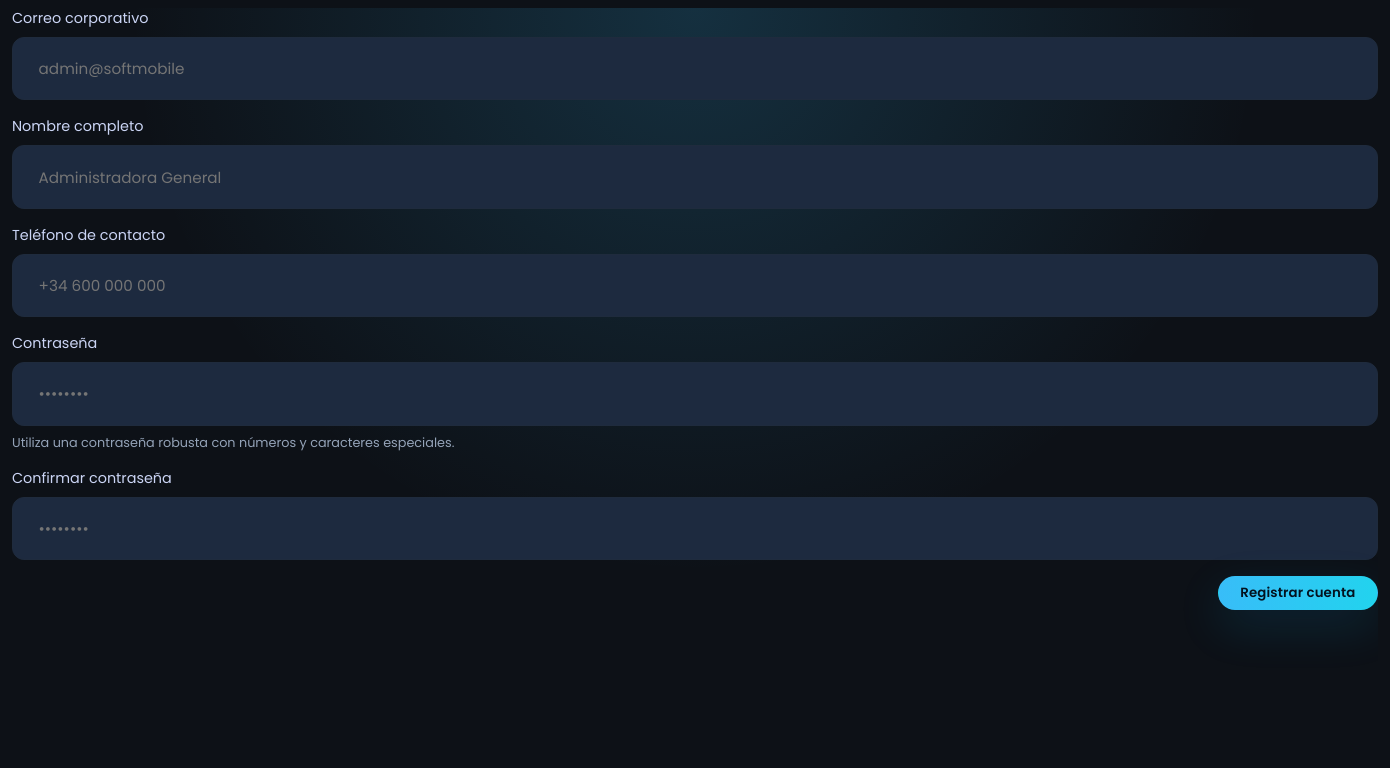
Test case: BootstrapForm › requiere capturar el correo corporativo antes de enviar
The width and height of the screenshot is (1390, 768).
Type "Password123!" into the password field labelled "Contraseña" at [695, 394], box top-left (27, 372), bottom-right (1363, 416)
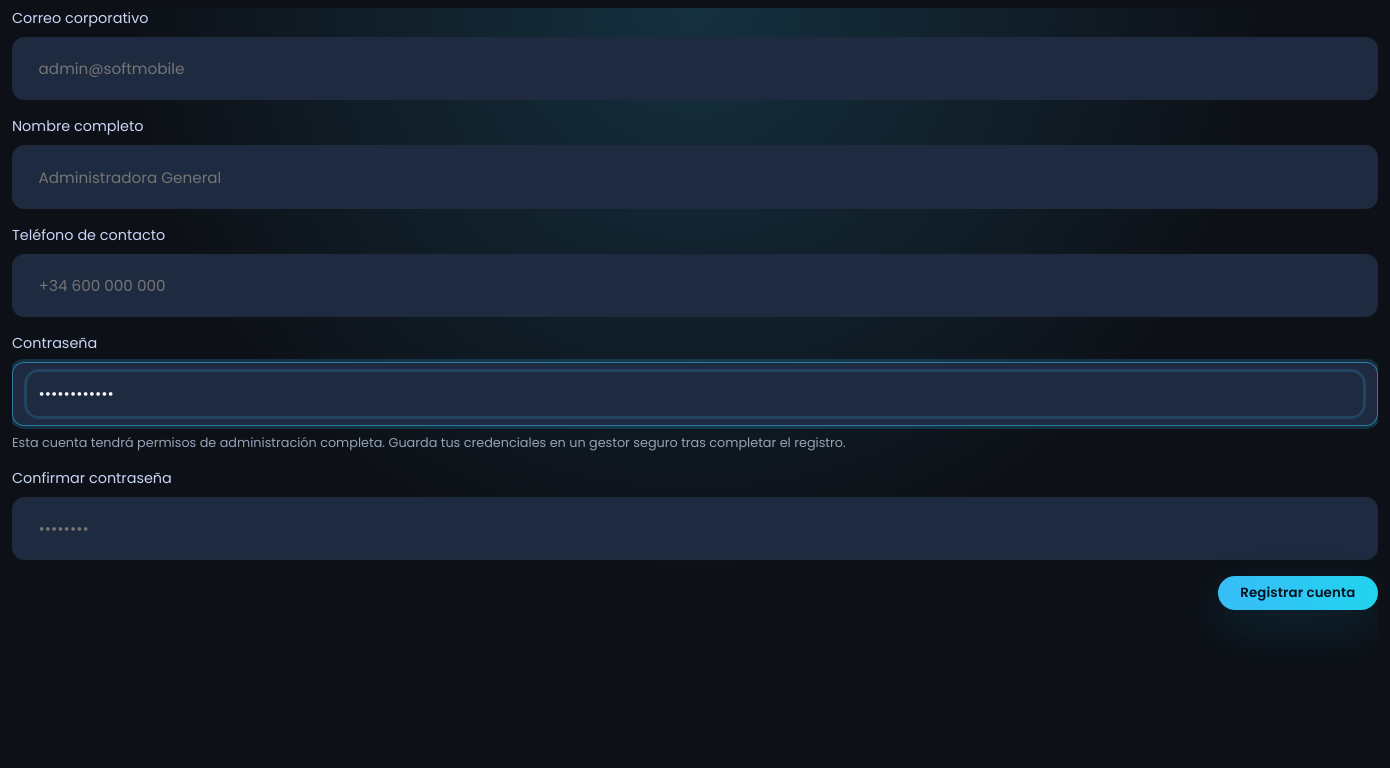
Type "Password123!" into the password field labelled "Confirmar contraseña" at [695, 528], box top-left (27, 506), bottom-right (1363, 550)
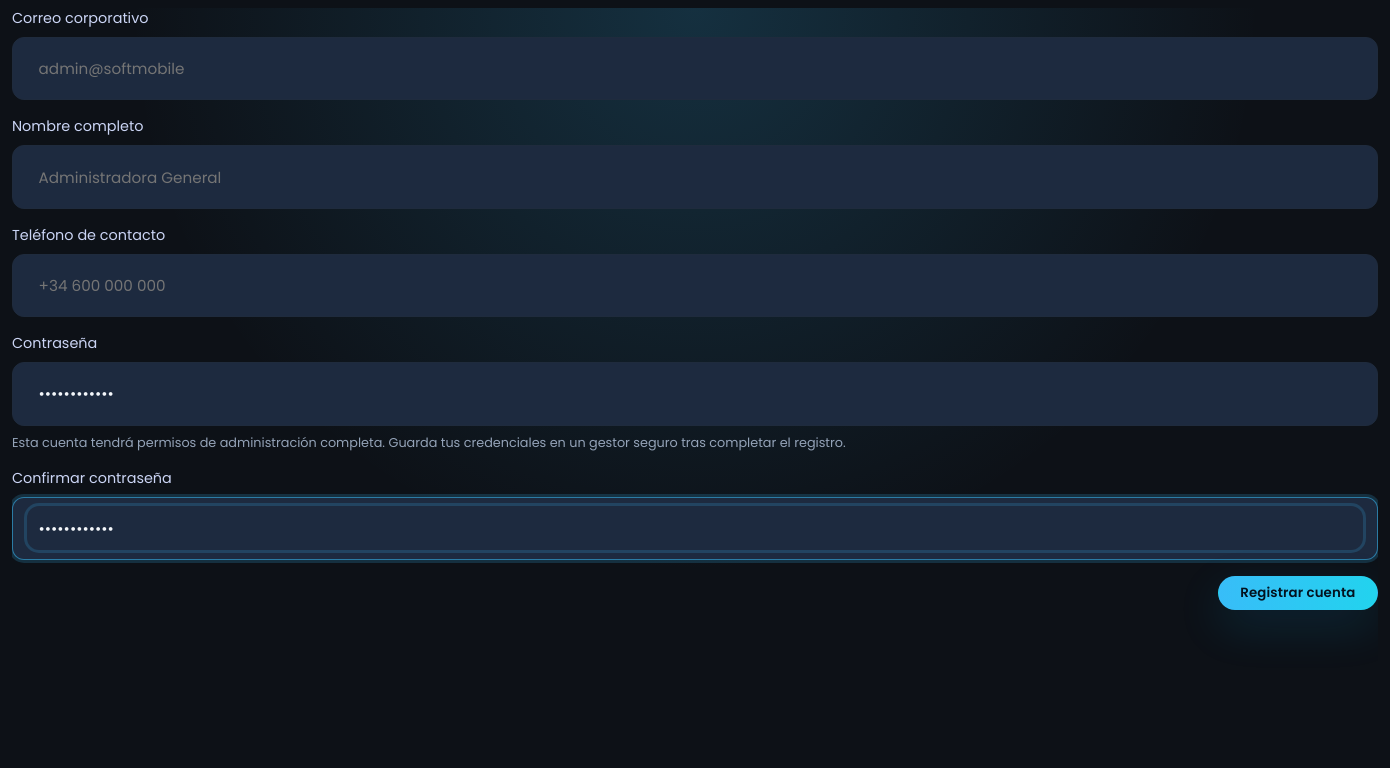
Click the button "Registrar cuenta" at [1298, 593], box top-left (1218, 576), bottom-right (1378, 610)
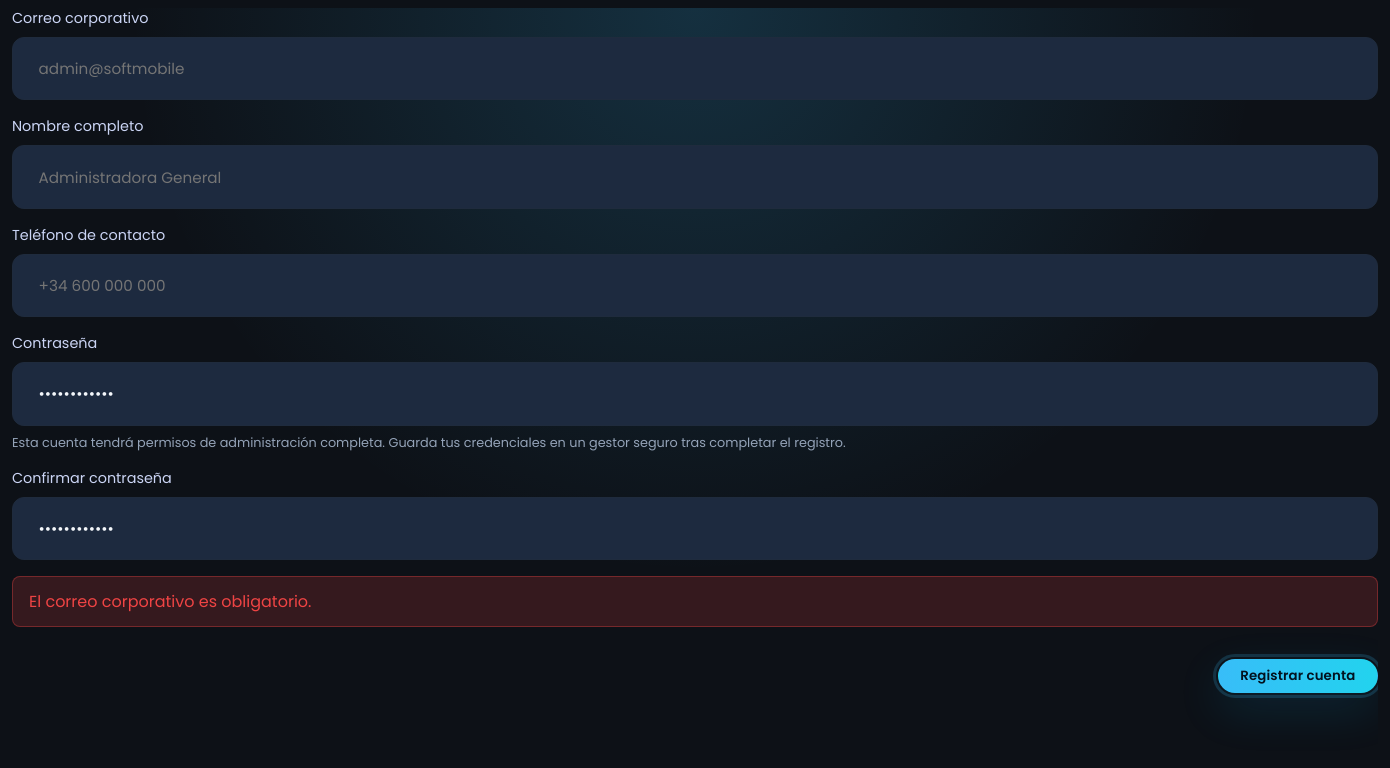
Now the text "El correo corporativo es obligatorio." is shown, box top-left (12, 576), bottom-right (1378, 627)
Type "admin@example.com" into the field labelled "Correo corporativo" at [695, 69], box top-left (27, 47), bottom-right (1363, 91)
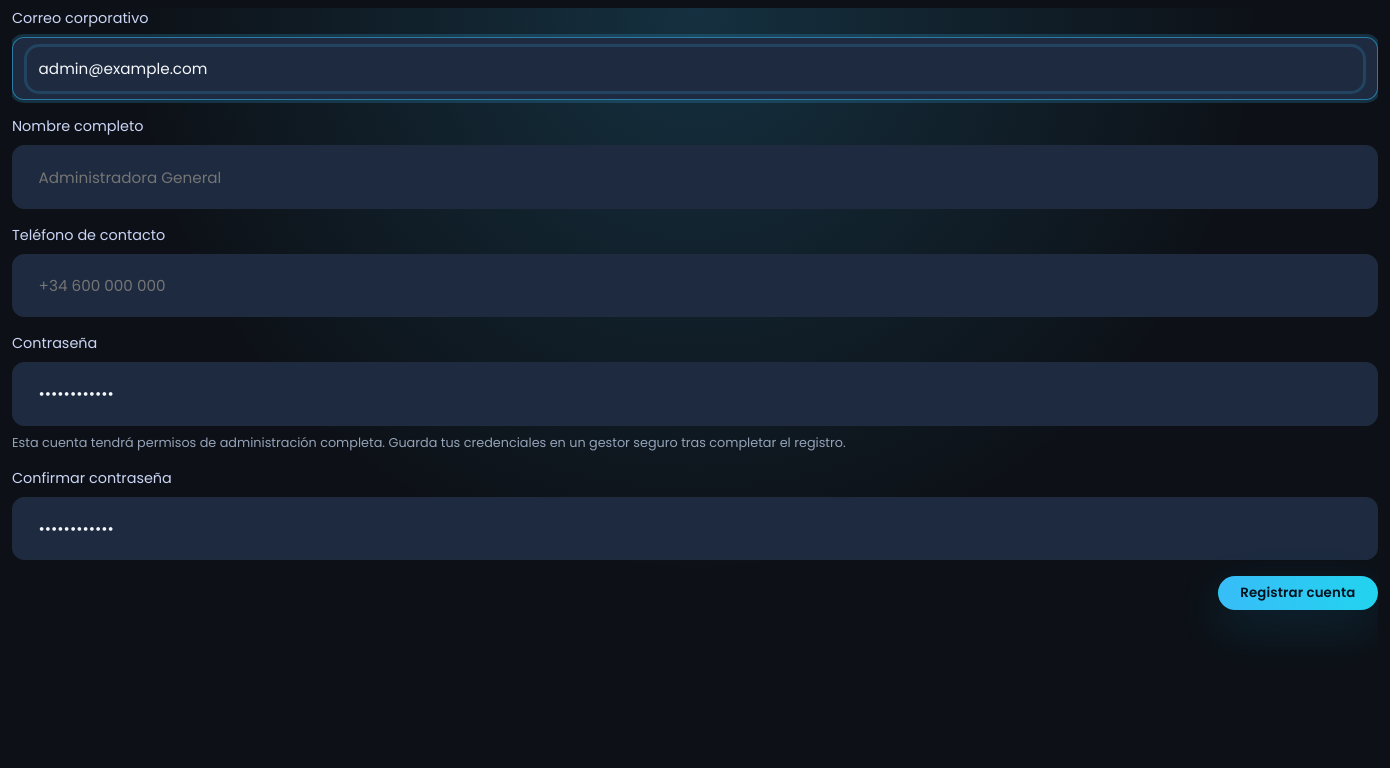
Now the text "El correo corporativo es obligatorio." is gone
